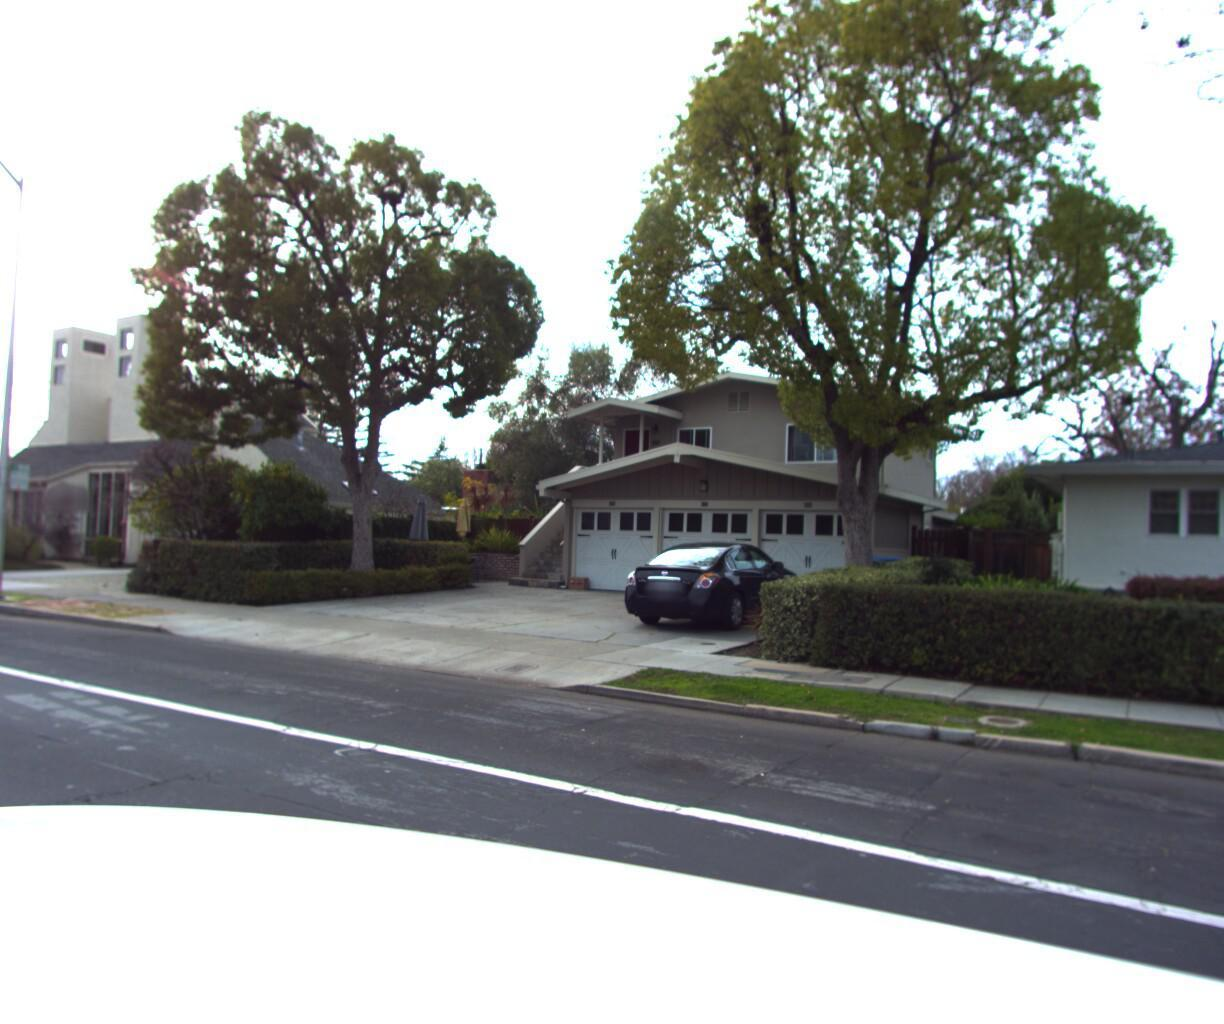car: (600, 538, 814, 636)
